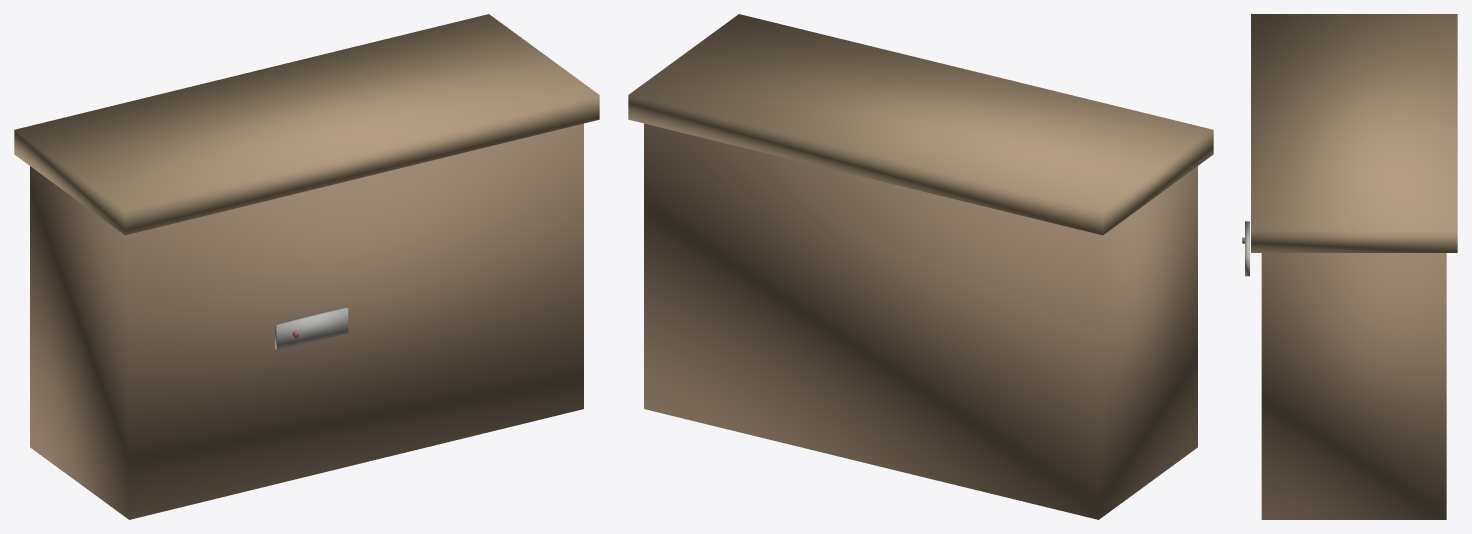
The model's file is pawn_counter__tall.glb.
3 renders of one model, left to right at view 1: azimuth 30°, elevation 25°; view 2: azimuth 150°, elevation 25°; view 3: azimuth 270°, elevation 25°, orthographic. The views are drawn at different scales.
Visible parts, largest first — view 1: world; view 2: world; view 3: world.
Boxes of the visible parts, x1,y1,x2,y2 form: world: (14,14,599,519); world: (628,14,1213,519); world: (1242,14,1457,519).
Size of the model in its own units: 1.88 by 1.19 by 0.791.
